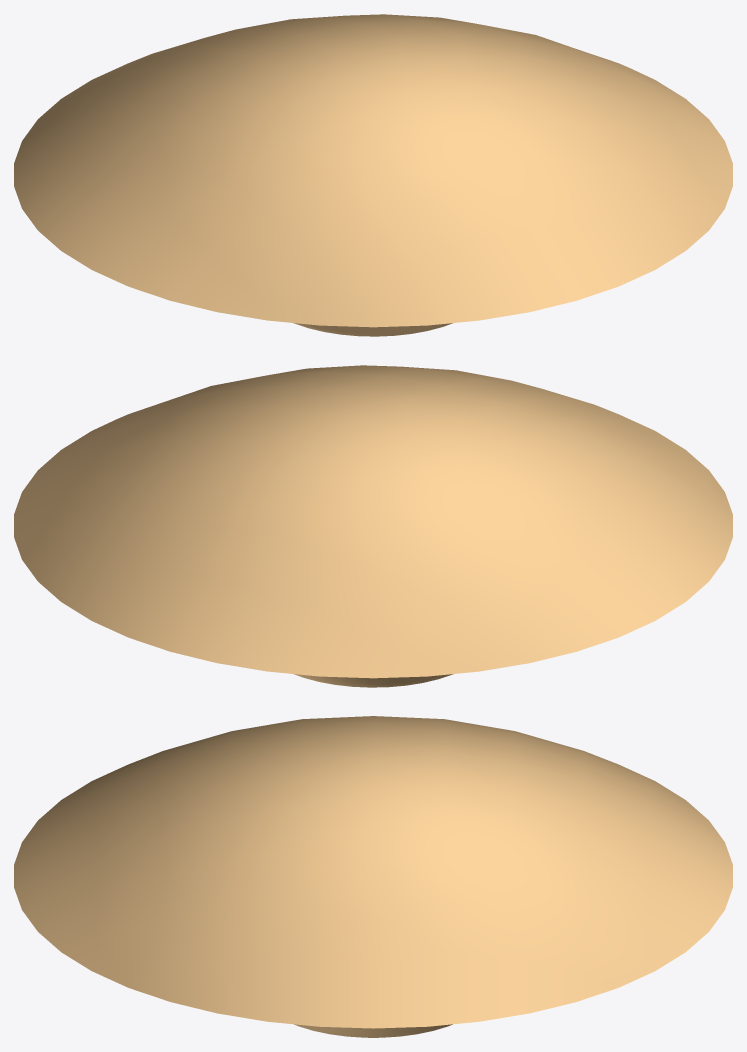
The model's file is ShadedKiraHeadGold.glb.
3 renders of one model, top to bottom at view 1: azimuth 30°, elevation 25°; view 2: azimuth 150°, elevation 25°; view 3: azimuth 270°, elevation 25°, orthographic.
Visible parts, largest first — view 1: Head; view 2: Head; view 3: Head.
Part boxes in pixels (x1,y1,x2,y2): Head: [14, 14, 732, 336]; Head: [14, 365, 732, 687]; Head: [14, 716, 732, 1037].
Size of the model in its own units: 0.2717 by 0.1033 by 0.271.
